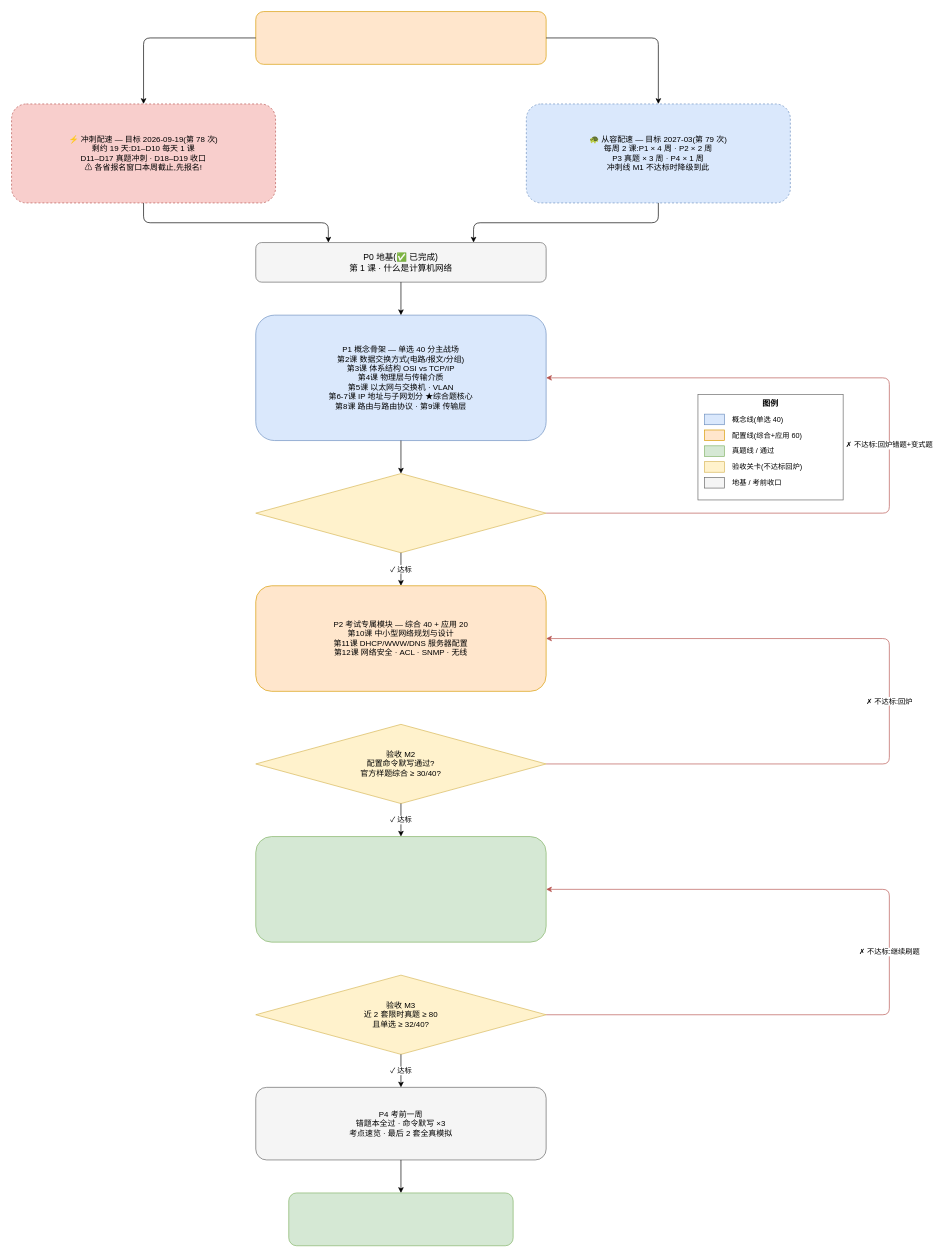
Some shapes in this 944 by 1257 pixel diagram are drawn without their labels. Each missing label, with the centre of its shape:
P3 真题冲刺 章节刷题(单选)· 地址填表每日 2 题 配置命令默写 · 应用题逐题吃透 限时 120 分钟套卷: point (400, 889)
验收 M1 单选模拟 ≥ 32/40? 子网笔算 5 题全对?: point (400, 513)
🎉 考试日:9/19(或 2027-03) 60+ 通过 · 80+ 优秀: point (400, 1219)
🎯 总目标:通过计算机三级·网络技术 总分 ≥ 60 且单选 ≥ 20/40(生命线)· 冲 80+: point (400, 37)
